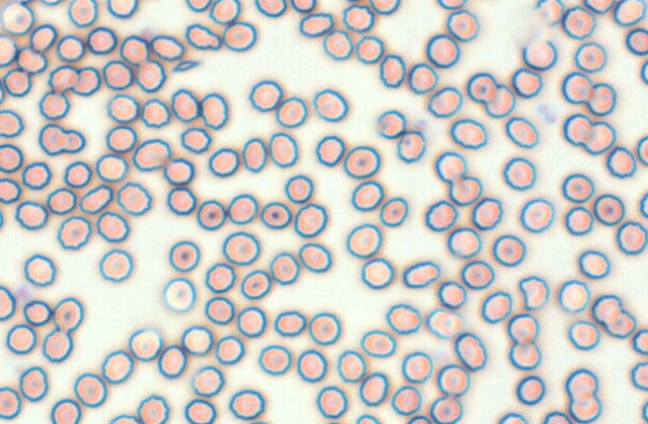RBC: (221, 231, 260, 265), (454, 331, 487, 371), (345, 223, 382, 258), (132, 138, 171, 171), (56, 215, 92, 250), (519, 197, 554, 233), (343, 145, 380, 179), (581, 120, 616, 155), (425, 33, 460, 68), (161, 277, 196, 312), (116, 181, 152, 215), (293, 202, 327, 238), (312, 88, 348, 122), (73, 372, 107, 407), (128, 327, 163, 361), (98, 248, 133, 282), (502, 156, 536, 191), (228, 388, 265, 420), (425, 307, 463, 338), (449, 118, 487, 149), (0, 1, 34, 35), (561, 5, 595, 39), (436, 363, 470, 397), (101, 349, 134, 384), (52, 296, 84, 332), (521, 38, 557, 70), (557, 279, 590, 313), (315, 385, 348, 419), (23, 253, 56, 287), (248, 79, 282, 112), (308, 311, 341, 345), (484, 83, 516, 118), (615, 220, 647, 255), (427, 86, 462, 118), (447, 226, 482, 258), (385, 303, 421, 334), (268, 131, 298, 168), (434, 150, 467, 183), (492, 234, 525, 267), (448, 174, 482, 206), (41, 328, 73, 362), (190, 365, 224, 397), (424, 199, 458, 231), (505, 116, 539, 148), (360, 257, 394, 289), (96, 210, 130, 242), (471, 196, 503, 230), (222, 21, 257, 52), (257, 344, 292, 375), (19, 365, 48, 402), (200, 92, 229, 129), (402, 260, 440, 288), (561, 71, 593, 104), (480, 290, 512, 323), (446, 9, 479, 41), (401, 350, 433, 383), (593, 193, 625, 226), (562, 112, 593, 146), (296, 348, 327, 382), (269, 251, 300, 285), (460, 259, 495, 289), (360, 329, 396, 358), (591, 293, 623, 325), (390, 384, 422, 416), (275, 96, 307, 128), (168, 240, 200, 272), (135, 59, 166, 92), (605, 145, 636, 178), (567, 319, 600, 350), (561, 172, 594, 203), (574, 41, 607, 72), (180, 325, 213, 356), (586, 82, 616, 116), (79, 184, 113, 214), (157, 344, 187, 378), (14, 200, 48, 230), (358, 372, 388, 406), (170, 88, 200, 122), (336, 349, 366, 383), (604, 308, 636, 339), (507, 313, 539, 344), (466, 71, 497, 103), (511, 67, 543, 98), (322, 28, 353, 60), (407, 62, 438, 94), (351, 180, 383, 211), (106, 93, 139, 123), (396, 130, 426, 163), (298, 242, 331, 272), (185, 23, 221, 50), (5, 323, 36, 354), (102, 59, 133, 90), (204, 262, 235, 293), (227, 193, 258, 224), (38, 90, 70, 120), (315, 134, 345, 166), (578, 249, 610, 279), (508, 341, 541, 370), (136, 394, 169, 423), (95, 153, 128, 182), (151, 34, 185, 62), (379, 53, 406, 88), (119, 34, 149, 65), (236, 306, 266, 337), (240, 269, 271, 299), (196, 199, 226, 230), (208, 147, 239, 177), (568, 395, 601, 423), (429, 395, 462, 423), (241, 137, 267, 172), (71, 66, 101, 96), (515, 375, 545, 405), (140, 98, 170, 128), (214, 334, 244, 364), (38, 123, 67, 154), (47, 64, 78, 93), (379, 196, 408, 227), (105, 125, 137, 153), (342, 4, 374, 32), (273, 310, 306, 337), (298, 12, 333, 37), (2, 67, 31, 97), (21, 161, 51, 190), (204, 296, 234, 325), (166, 186, 196, 215), (564, 205, 593, 235), (86, 26, 117, 54), (46, 187, 77, 215), (163, 157, 194, 185), (180, 126, 211, 154), (260, 201, 291, 229), (437, 280, 466, 309), (355, 35, 384, 64), (284, 174, 313, 203), (17, 46, 47, 74), (55, 34, 85, 62), (67, 0, 98, 27), (613, 0, 645, 26), (63, 160, 92, 188), (184, 398, 216, 423), (29, 23, 56, 52), (50, 398, 81, 423), (208, 0, 240, 24), (23, 299, 51, 326), (534, 0, 564, 25), (0, 386, 21, 419), (0, 143, 23, 173), (0, 109, 24, 137), (625, 27, 647, 55), (0, 285, 16, 321), (106, 0, 138, 18), (0, 177, 21, 204), (0, 34, 17, 66), (254, 0, 286, 17), (630, 361, 647, 391), (368, 0, 400, 15), (582, 0, 614, 14), (632, 328, 647, 355), (541, 410, 572, 423), (636, 135, 647, 166), (497, 412, 528, 423), (108, 413, 142, 423), (290, 0, 316, 13), (185, 0, 211, 12), (436, 0, 466, 10), (355, 413, 381, 423), (639, 190, 648, 218), (406, 414, 431, 423), (640, 59, 647, 85), (641, 399, 648, 423), (342, 0, 369, 6), (321, 419, 350, 424), (0, 78, 5, 104), (39, 0, 64, 5), (248, 419, 270, 424), (0, 207, 4, 230), (474, 0, 498, 3), (18, 0, 35, 3)
Schistocyte: (519, 276, 549, 309), (378, 110, 406, 139), (172, 58, 202, 74)
